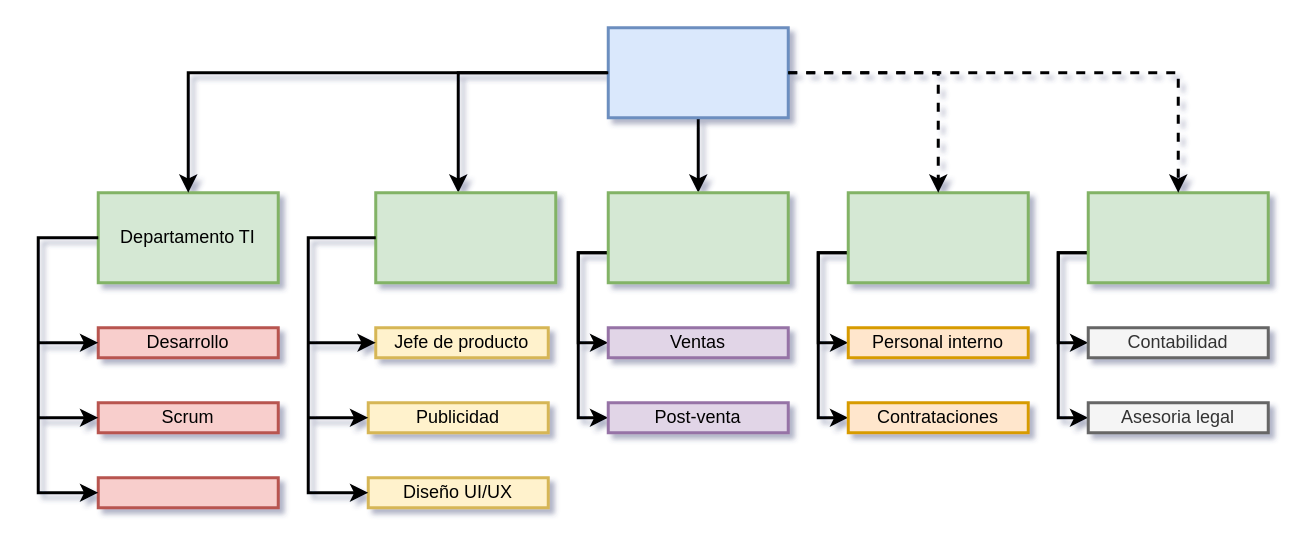
The diagram is 1304 pixels wide and 543 high, and some of its shapes have lost their labels. The shapes that lost their labels are listed below. From the top down, each one's box as (x1, y1, x2, y2) in pixels, then its label:
(606, 26, 789, 118): Gerencia general
(374, 190, 556, 284): Departamento de marketing
(606, 190, 789, 284): Departamento de ventas
(846, 190, 1029, 284): Departamento de RRHH
(1086, 190, 1269, 284): Departamento adminstrativo
(96, 476, 279, 508): Devops
